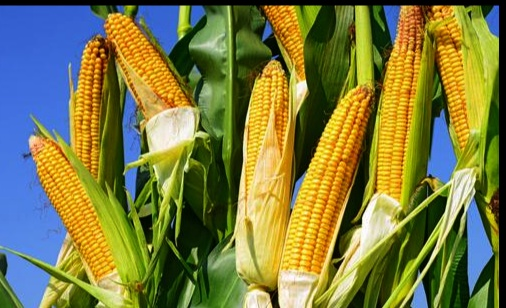corn: (23, 138, 136, 291), (106, 12, 201, 174), (283, 87, 362, 279), (240, 65, 289, 285), (377, 8, 426, 210), (436, 26, 493, 170), (74, 40, 115, 186)
